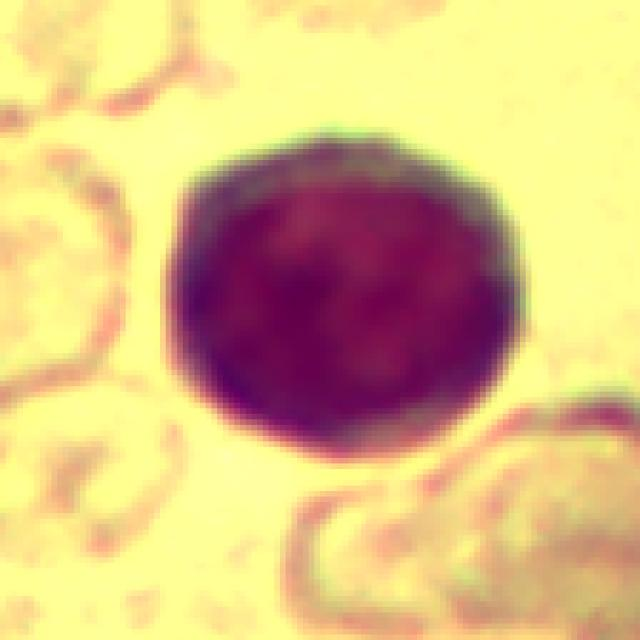WBC: (154, 121, 549, 491)
